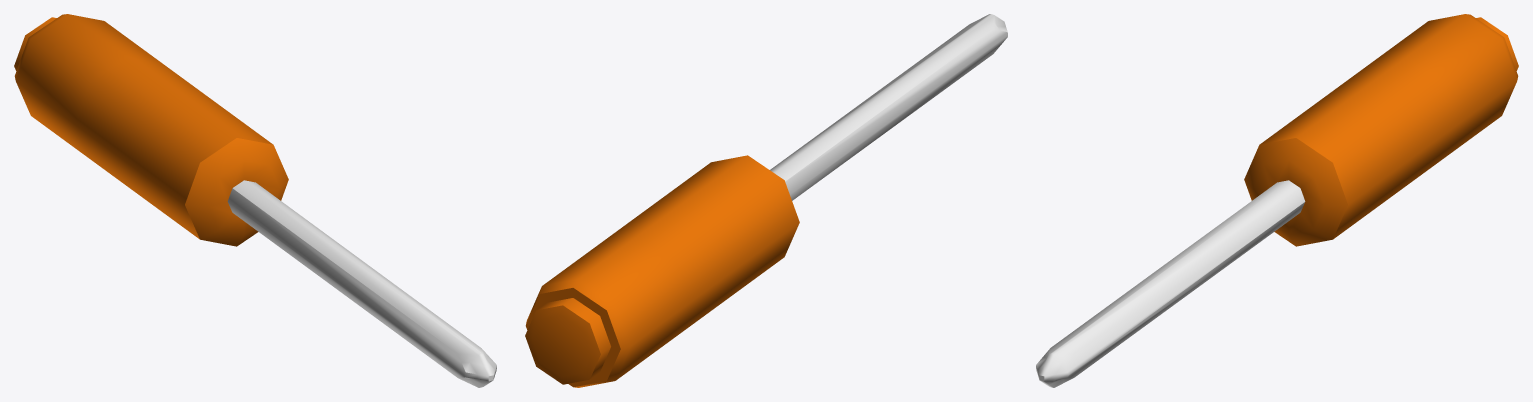
The model's file is ScrewDriver.fbx.
3 renders of one model, left to right at view 1: azimuth 30°, elevation 25°; view 2: azimuth 150°, elevation 25°; view 3: azimuth 330°, elevation 25°, orthographic.
Parts seen in each view (by area): view 1: Cylinder; view 2: Cylinder; view 3: Cylinder.
Boxes of the visible parts, x1,y1,x2,y2 form: Cylinder: (14, 14, 496, 387); Cylinder: (525, 14, 1007, 387); Cylinder: (1036, 14, 1518, 387).
Bounding box in the file's own units: 32.8 × 32.8 × 241.
